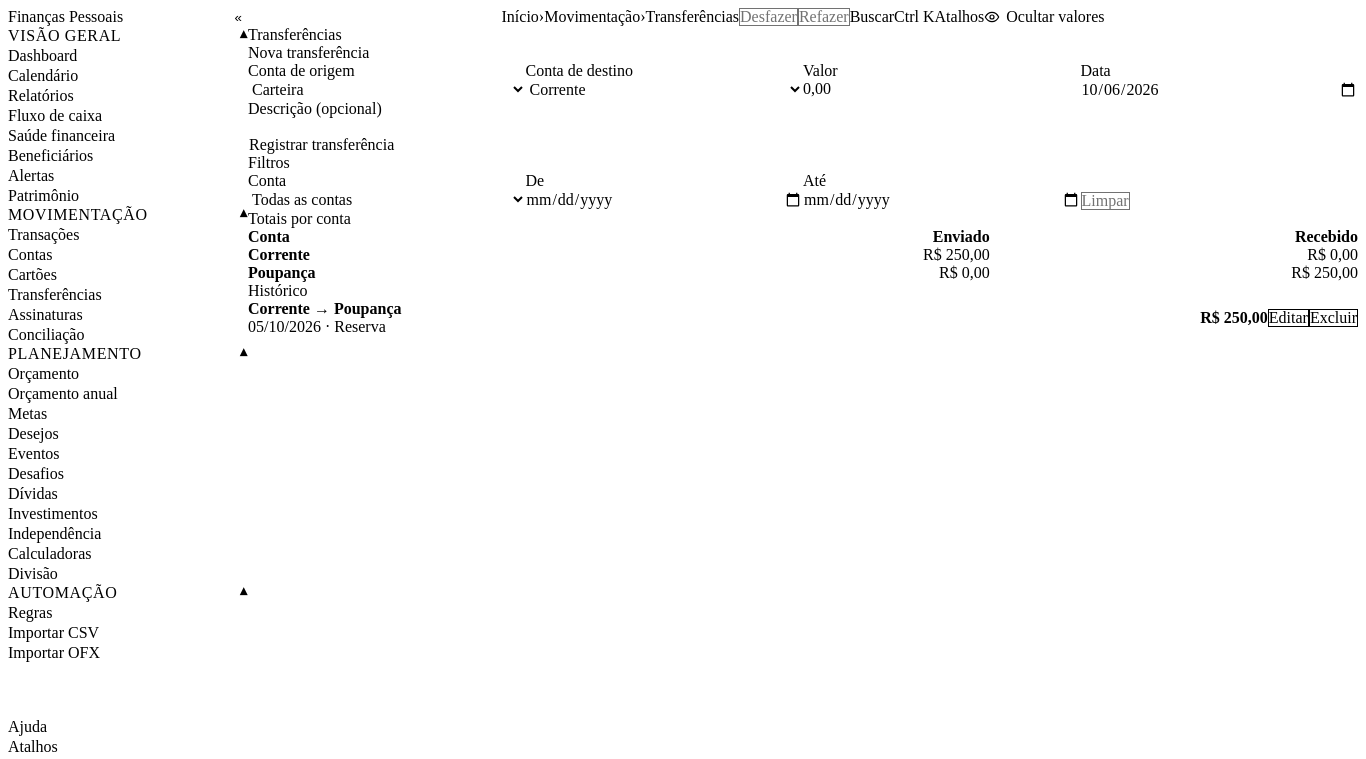
Test: transferências: tela › critério 7: excluir pede confirmação; cancelar não muda nada e confirmar remove
Step 1. Click the button with aria-label "Excluir transferência" → (1333, 318), box [1309, 309, 1358, 327]
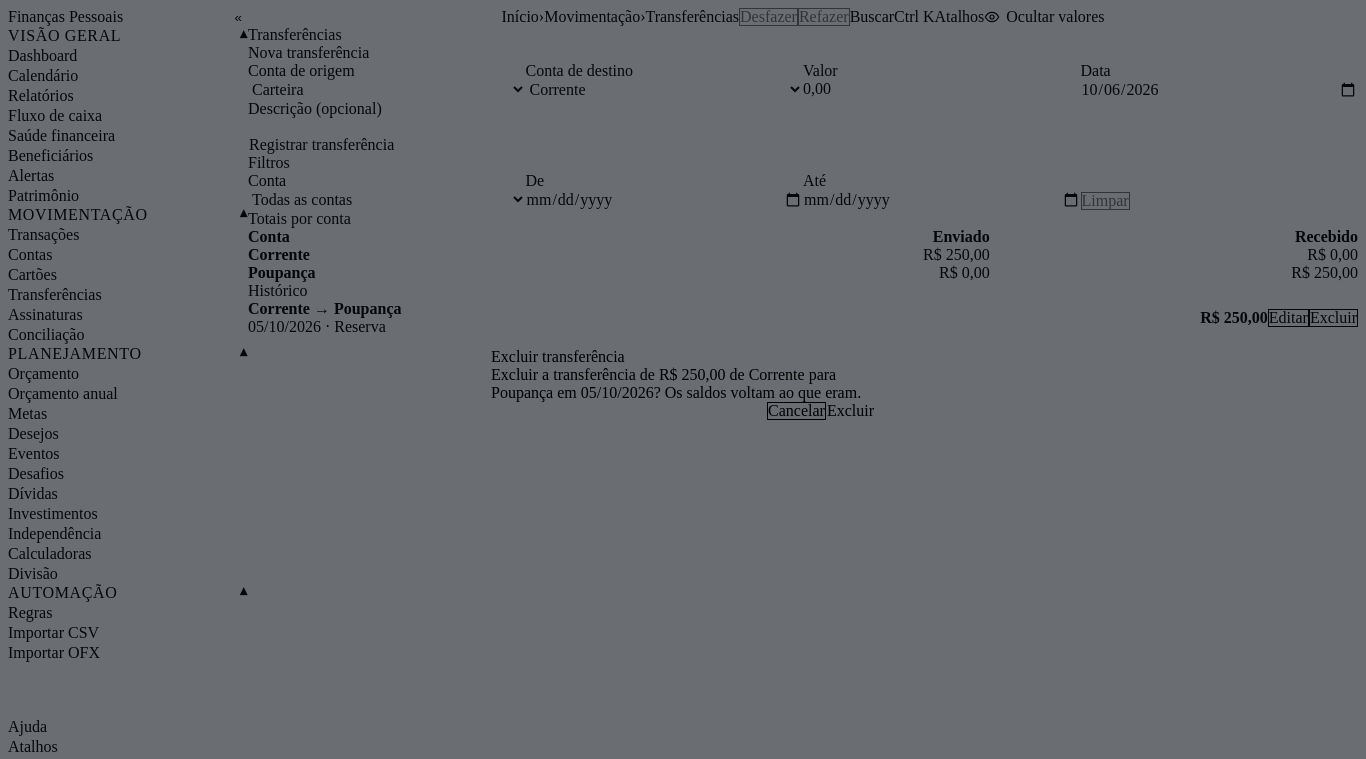
Step 2. Click the button "Cancelar" → (796, 411), box [767, 402, 826, 420]
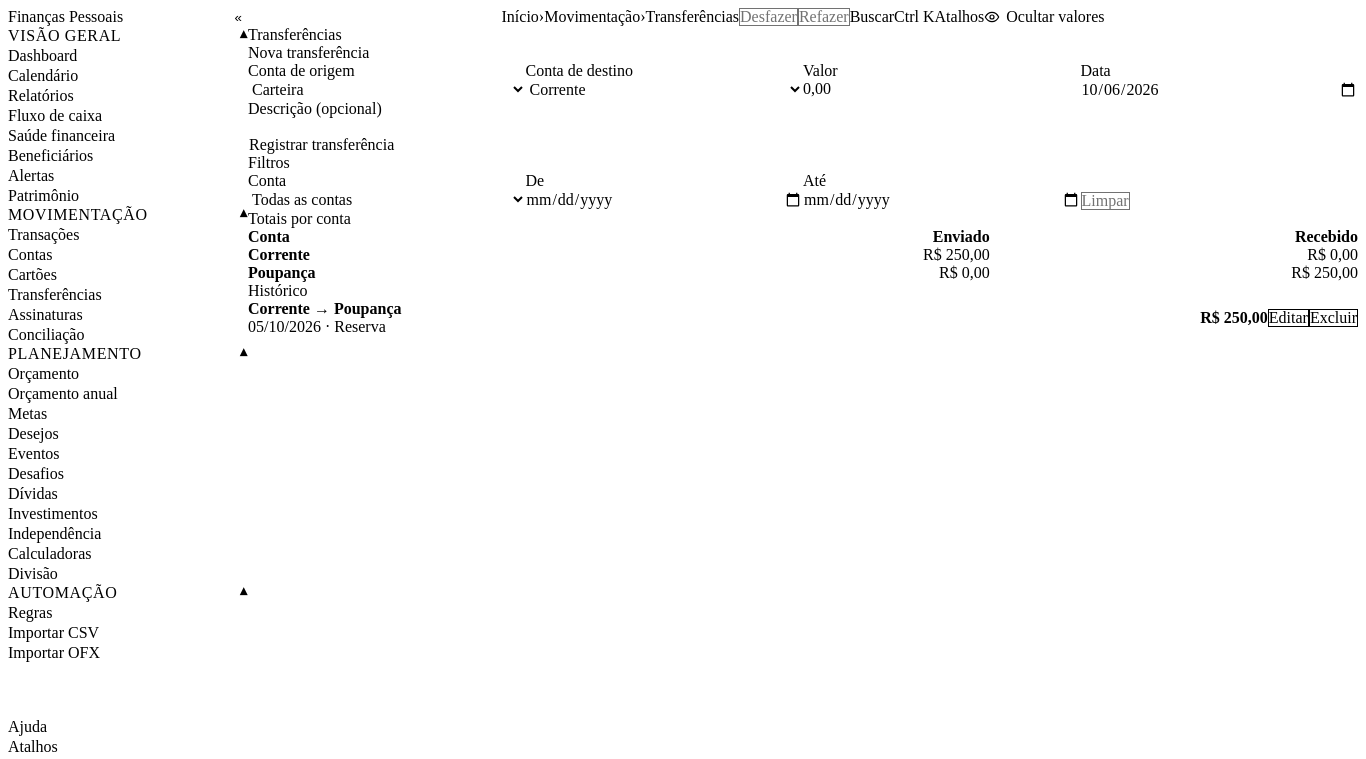
Check: the dialog is gone
Step 3. Click the button with aria-label "Excluir transferência" → (1333, 318), box [1309, 309, 1358, 327]
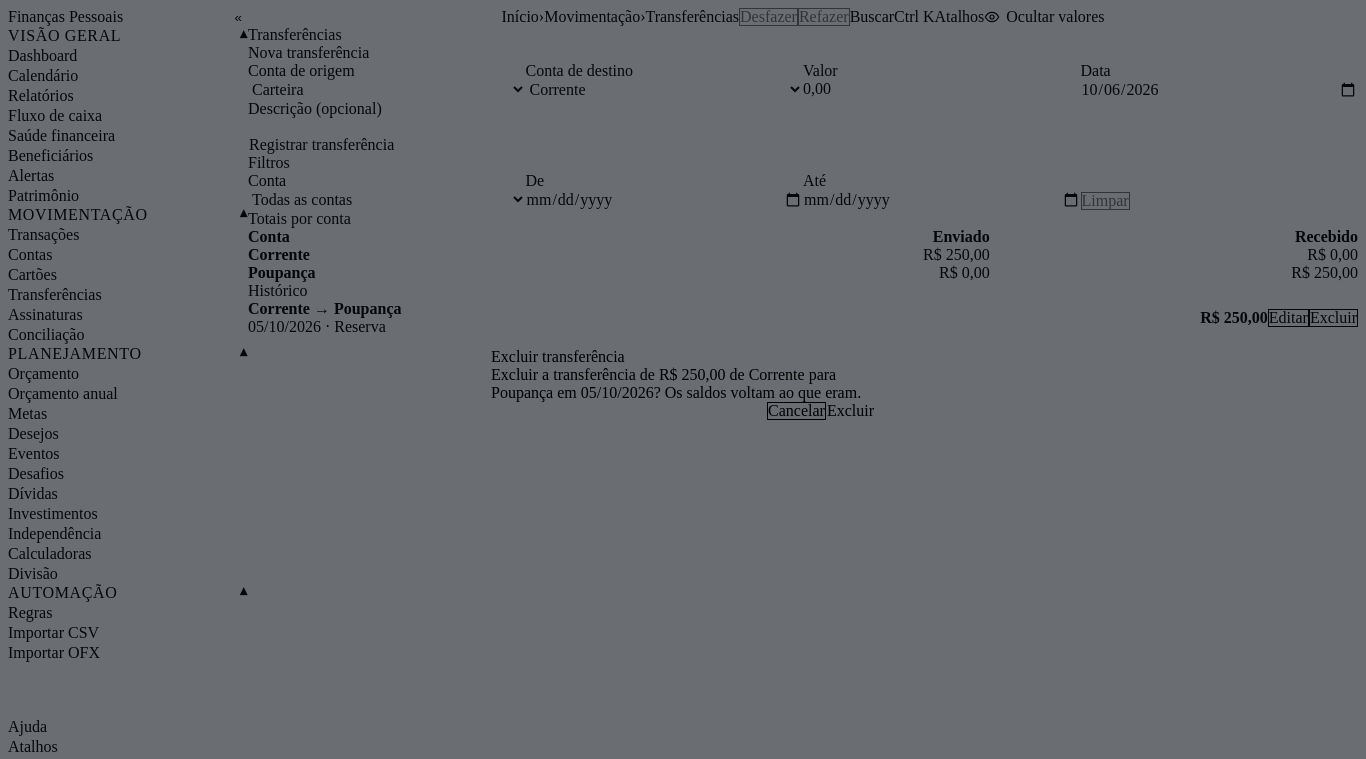
Step 4. Click the button "Excluir" → (850, 411), box [826, 402, 875, 420]
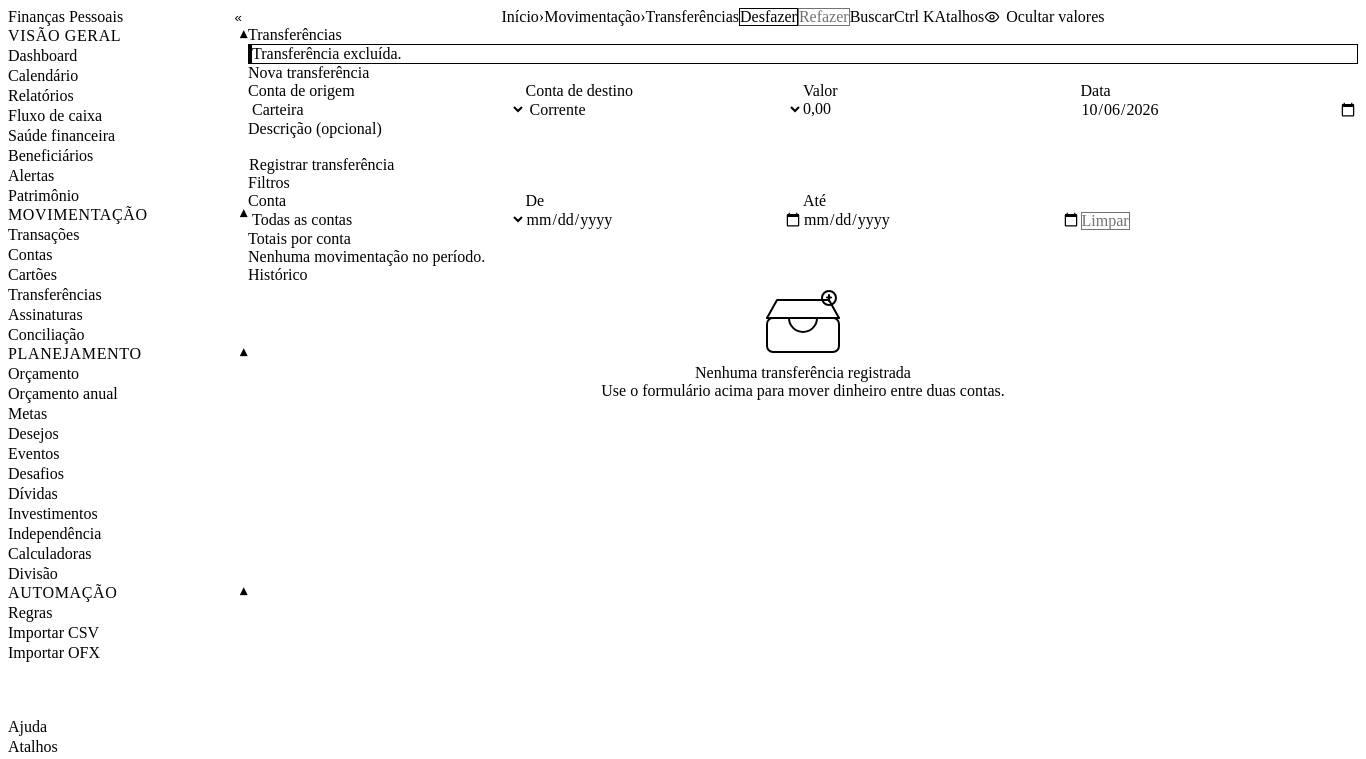
Check: the text "Nenhuma transferência registrada" is shown, box [695, 364, 911, 382]
